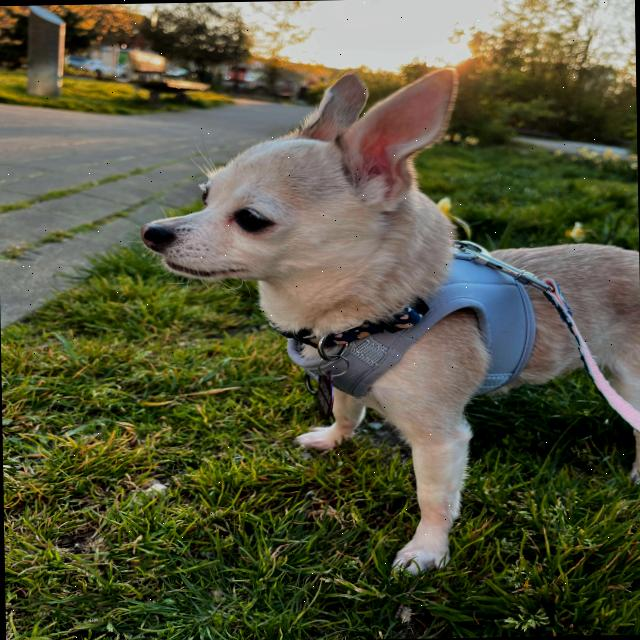chihuahua_dog: (135, 62, 491, 338)
